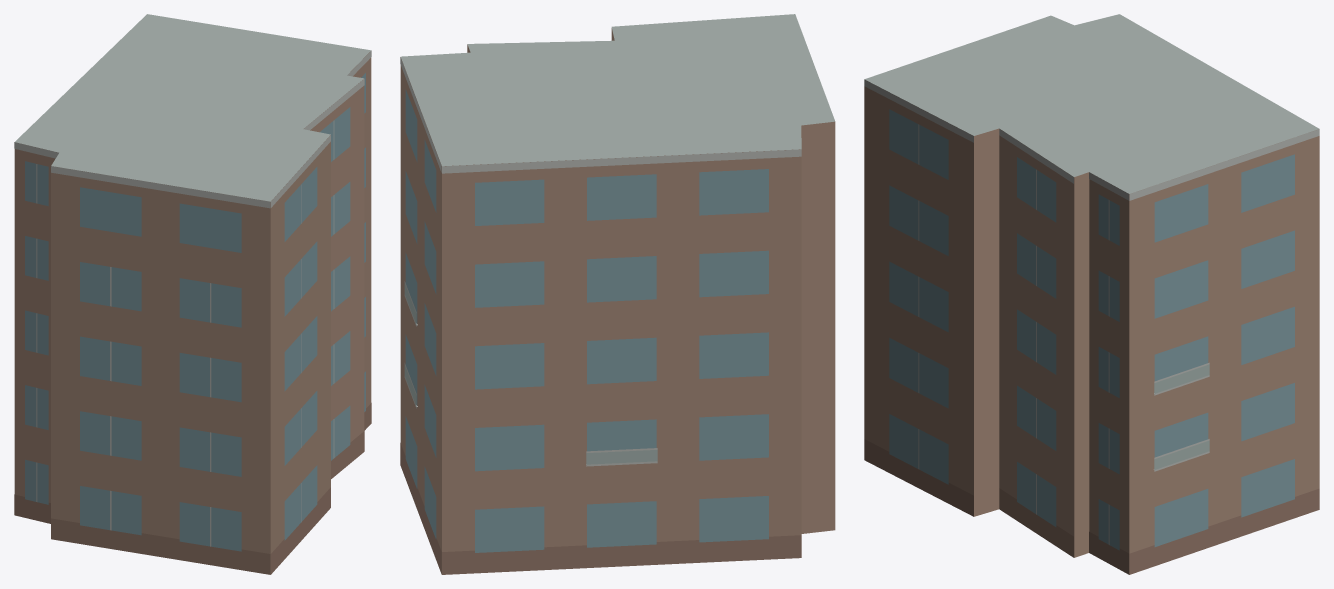
The model's file is survey-upis-32952390.glb.
3 views of the same model, side by side, from view 1: azimuth 30°, elevation 25°; view 2: azimuth 150°, elevation 25°; view 3: azimuth 270°, elevation 25° (orthographic). The views are drawn at different scales.
Visible parts, largest first — view 1: survey-upis-32952390.tmp; view 2: survey-upis-32952390.tmp; view 3: survey-upis-32952390.tmp.
Boxes of the visible parts, <box> form: survey-upis-32952390.tmp: <box>14,14,371,574</box>; survey-upis-32952390.tmp: <box>400,14,835,574</box>; survey-upis-32952390.tmp: <box>864,14,1319,574</box>.
Size of the model in its own units: 13.7 by 13.5 by 14.64.
